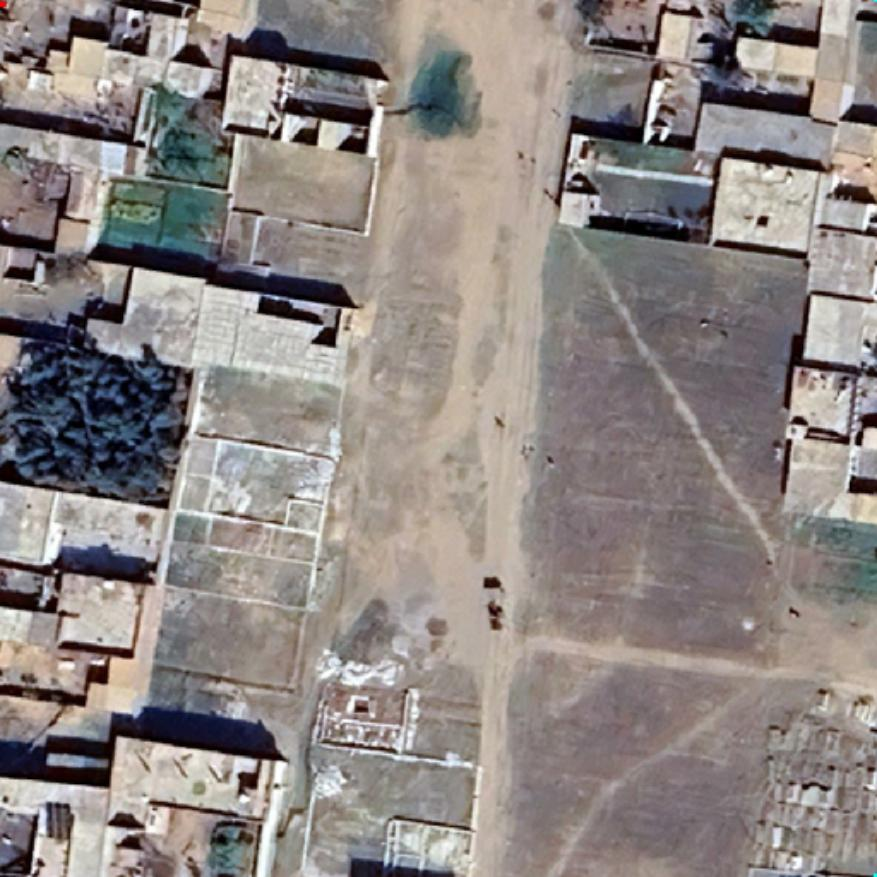Solarpanel: (40, 798, 76, 844)
